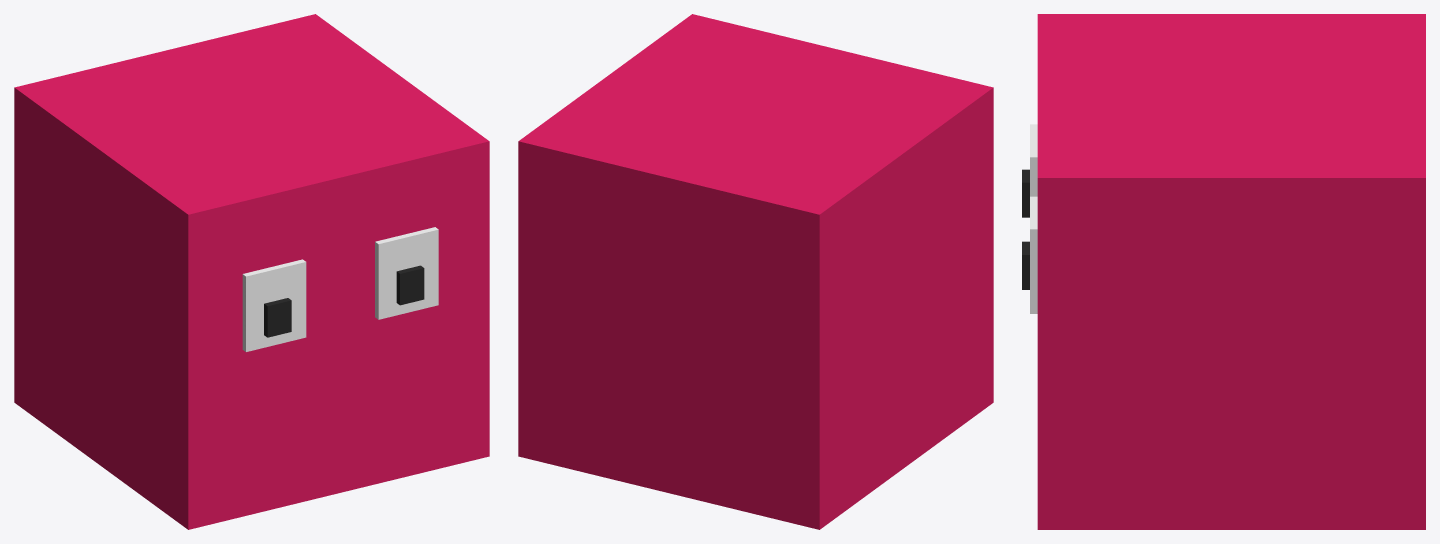
File: lingo-2024.glb
The picture shows the model from 3 angles, left to right: view 1: azimuth 30°, elevation 25°; view 2: azimuth 150°, elevation 25°; view 3: azimuth 270°, elevation 25°; orthographic projection. The views are drawn at different scales.
Parts seen in each view (by area): view 1: Lumo; view 2: Lumo; view 3: Lumo.
Boxes of the visible parts, x1,y1,x2,y2 form: Lumo: [14, 14, 489, 529]; Lumo: [518, 14, 993, 529]; Lumo: [1022, 14, 1425, 529].
Size of the model in its own units: 1 by 1 by 1.04.
